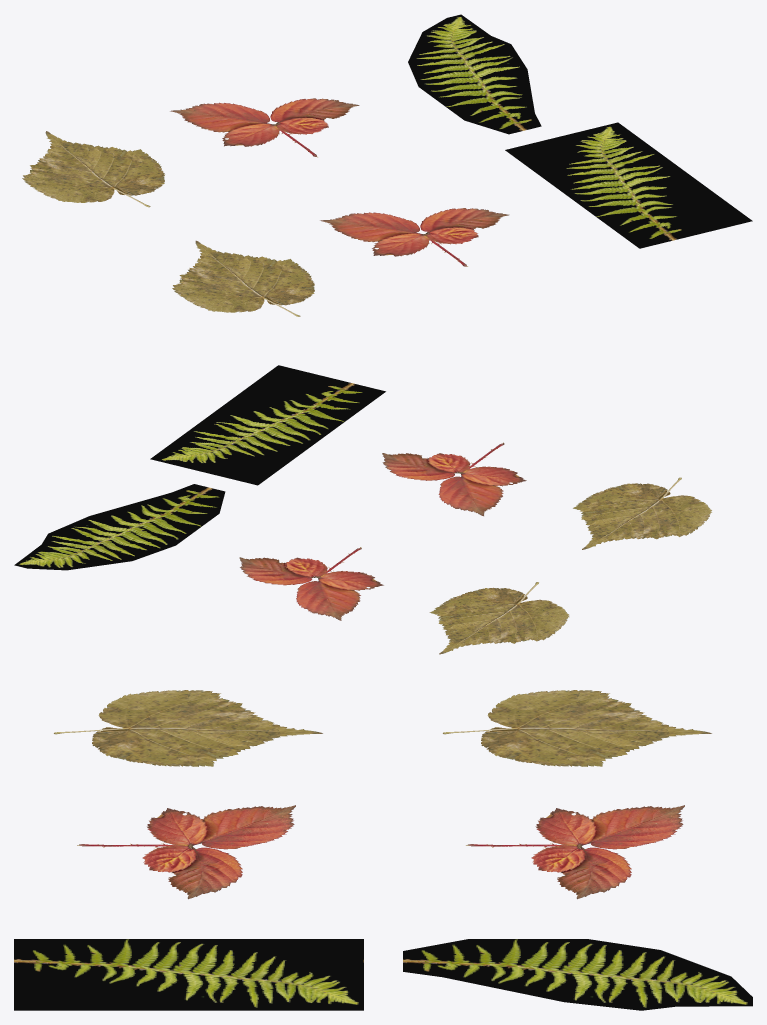
Rendered from transparent_test.obj.
The picture shows the model from 3 angles, top to bottom: view 1: azimuth 30°, elevation 25°; view 2: azimuth 150°, elevation 25°; view 3: azimuth 270°, elevation 25°; orthographic projection. The views are drawn at different scales.
Parts seen in each view (by area): view 1: Plane, Plane.001; view 2: Plane, Plane.001; view 3: Plane, Plane.001.
Boxes of the visible parts, x1,y1,x2,y2 form: Plane: [172, 122, 752, 316]; Plane.001: [22, 14, 541, 207]; Plane: [150, 365, 711, 549]; Plane.001: [14, 484, 569, 654]; Plane: [14, 690, 363, 1010]; Plane.001: [403, 690, 752, 1010].
Bounding box in the file's own units: 7.87 × 0 × 7.6.
3 materials, 3 textured.
